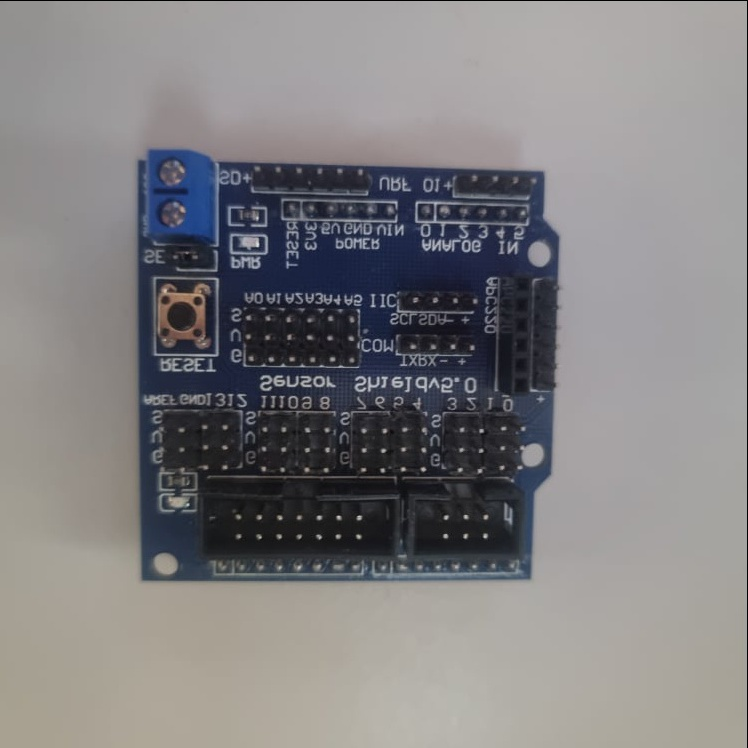5V EXPANSION: (138, 147, 565, 582)
